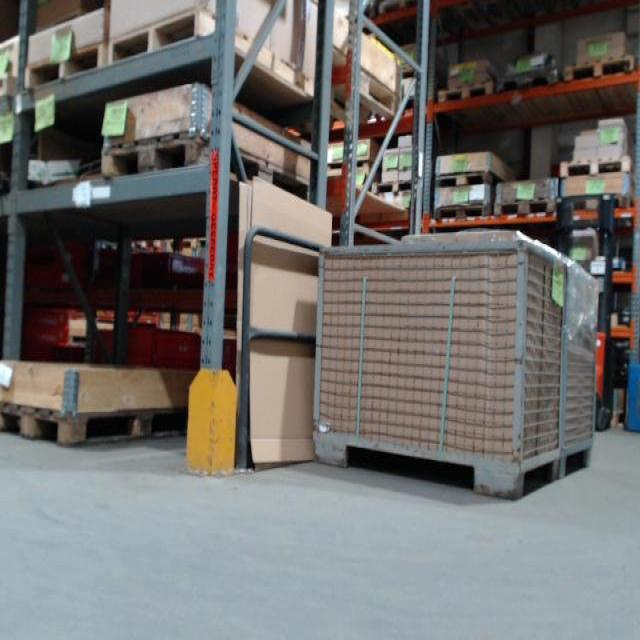pallet: (106, 11, 315, 103), (100, 131, 313, 200), (2, 399, 192, 454), (329, 39, 402, 133), (23, 37, 108, 95), (564, 54, 639, 96), (557, 189, 636, 225), (558, 153, 635, 182), (436, 78, 498, 111), (430, 199, 492, 231), (495, 193, 561, 223), (495, 71, 562, 100), (431, 165, 510, 189), (372, 171, 424, 198), (323, 153, 374, 174), (1, 71, 17, 105)
pallet_truck: (548, 188, 625, 440)
stillage: (314, 233, 604, 503)
